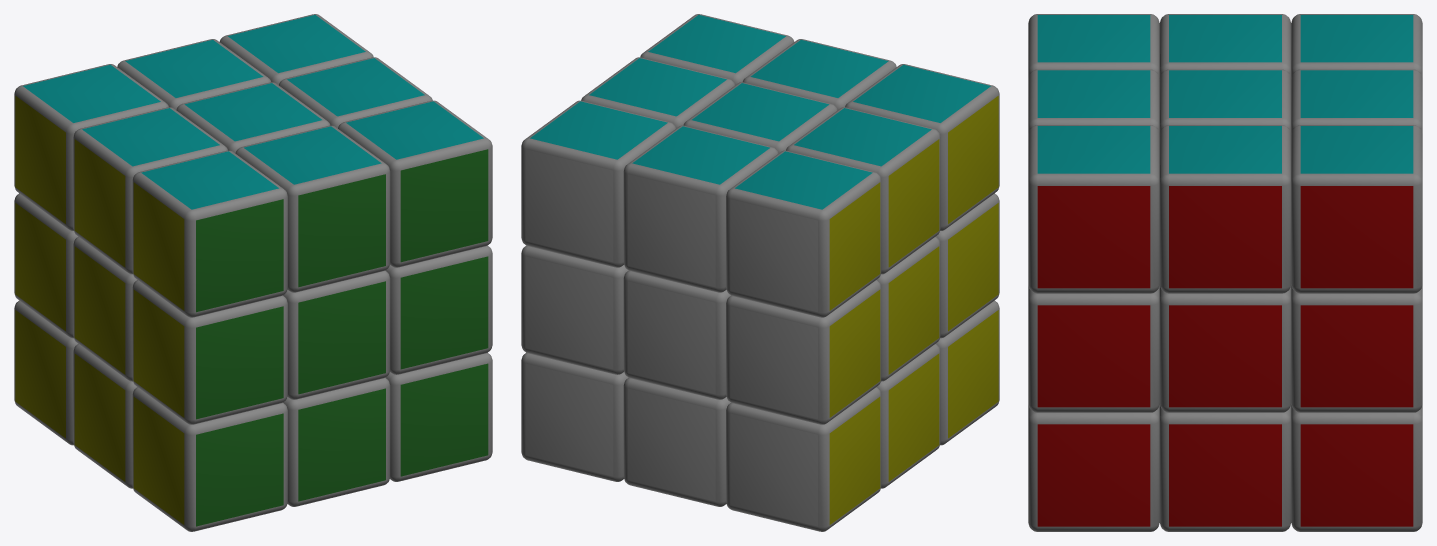
The model's file is Rubik's Cube.obj.
The picture shows the model from 3 angles, left to right: view 1: azimuth 30°, elevation 25°; view 2: azimuth 150°, elevation 25°; view 3: azimuth 270°, elevation 25°; orthographic projection. The views are drawn at different scales.
Parts seen in each view (by area): view 1: Block68, Block47, Block59, Block66, Block67, Block65, Block72, Block50, Block57, Block58, Block49, Block46 (+7 smaller); view 2: Block72, Block46, Block63, Block69, Block70, Block65, Block68, Block52, Block60, Block61, Block53, Block59 (+7 smaller); view 3: Block64, Block67, Block69, Block51, Block55, Block50, Block52, Block58, Block60, Block71, Block65, Block66 (+3 smaller).
Part boxes in pixels (x1,y1,x2,y2): Block68: (132,150,287,317); Block47: (132,280,287,424); Block59: (132,387,287,531); Block66: (235,125,390,292); Block67: (338,100,492,267); Block65: (73,107,227,274); Block72: (14,64,168,230); Block50: (385,352,492,481); Block57: (283,270,390,399); Block58: (385,245,492,374); Block49: (283,377,390,506); Block46: (14,300,77,445); Block72: (726,150,881,317); Block46: (726,387,881,531); Block63: (726,280,881,424); Block69: (521,100,675,267); Block70: (623,125,778,292); Block65: (786,107,940,274); Block68: (845,64,999,230); Block52: (521,352,628,481); Block60: (521,245,628,374); Block61: (623,270,730,399); Block53: (623,377,730,506); Block59: (936,300,999,445); Block64: (1159,125,1291,293); Block67: (1028,125,1159,293); Block69: (1291,125,1422,293); Block51: (1159,404,1291,531); Block55: (1159,285,1291,412); Block50: (1028,404,1159,531); Block52: (1291,404,1422,531); Block58: (1028,285,1159,412); Block60: (1291,285,1422,412); Block71: (1159,69,1291,133); Block65: (1159,14,1291,78); Block66: (1028,69,1159,133).
Size of the model in its own units: 107 by 107 by 107.
